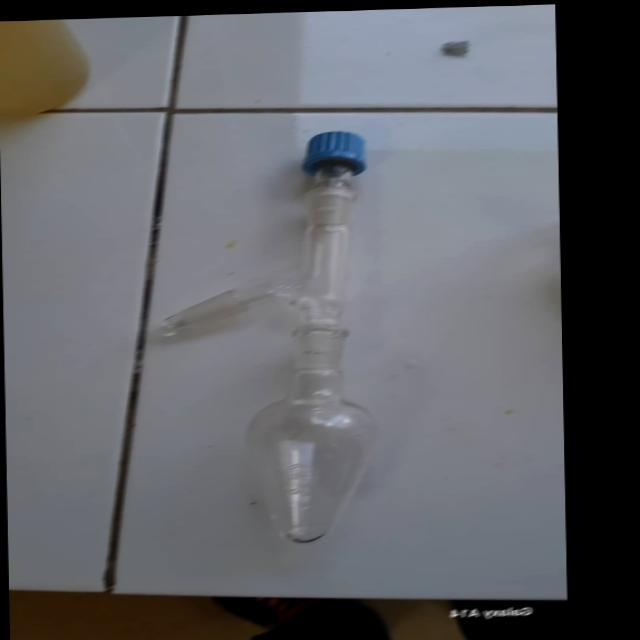Distillation: (138, 120, 448, 558)
